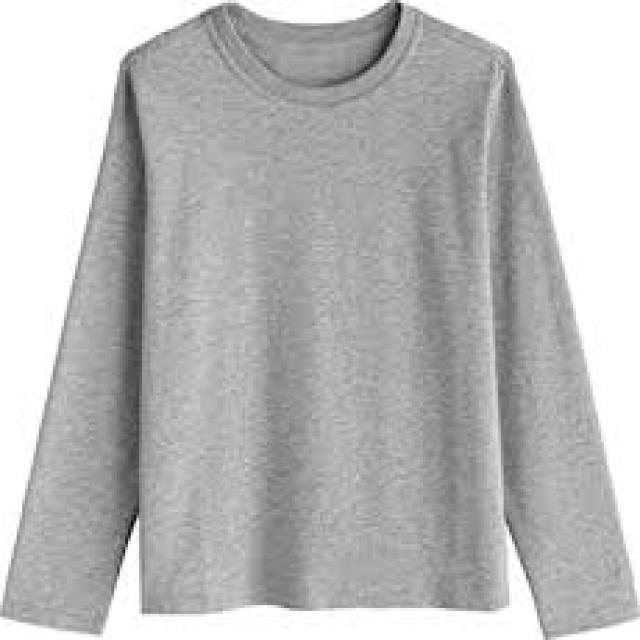plain: (2, 0, 637, 638)
